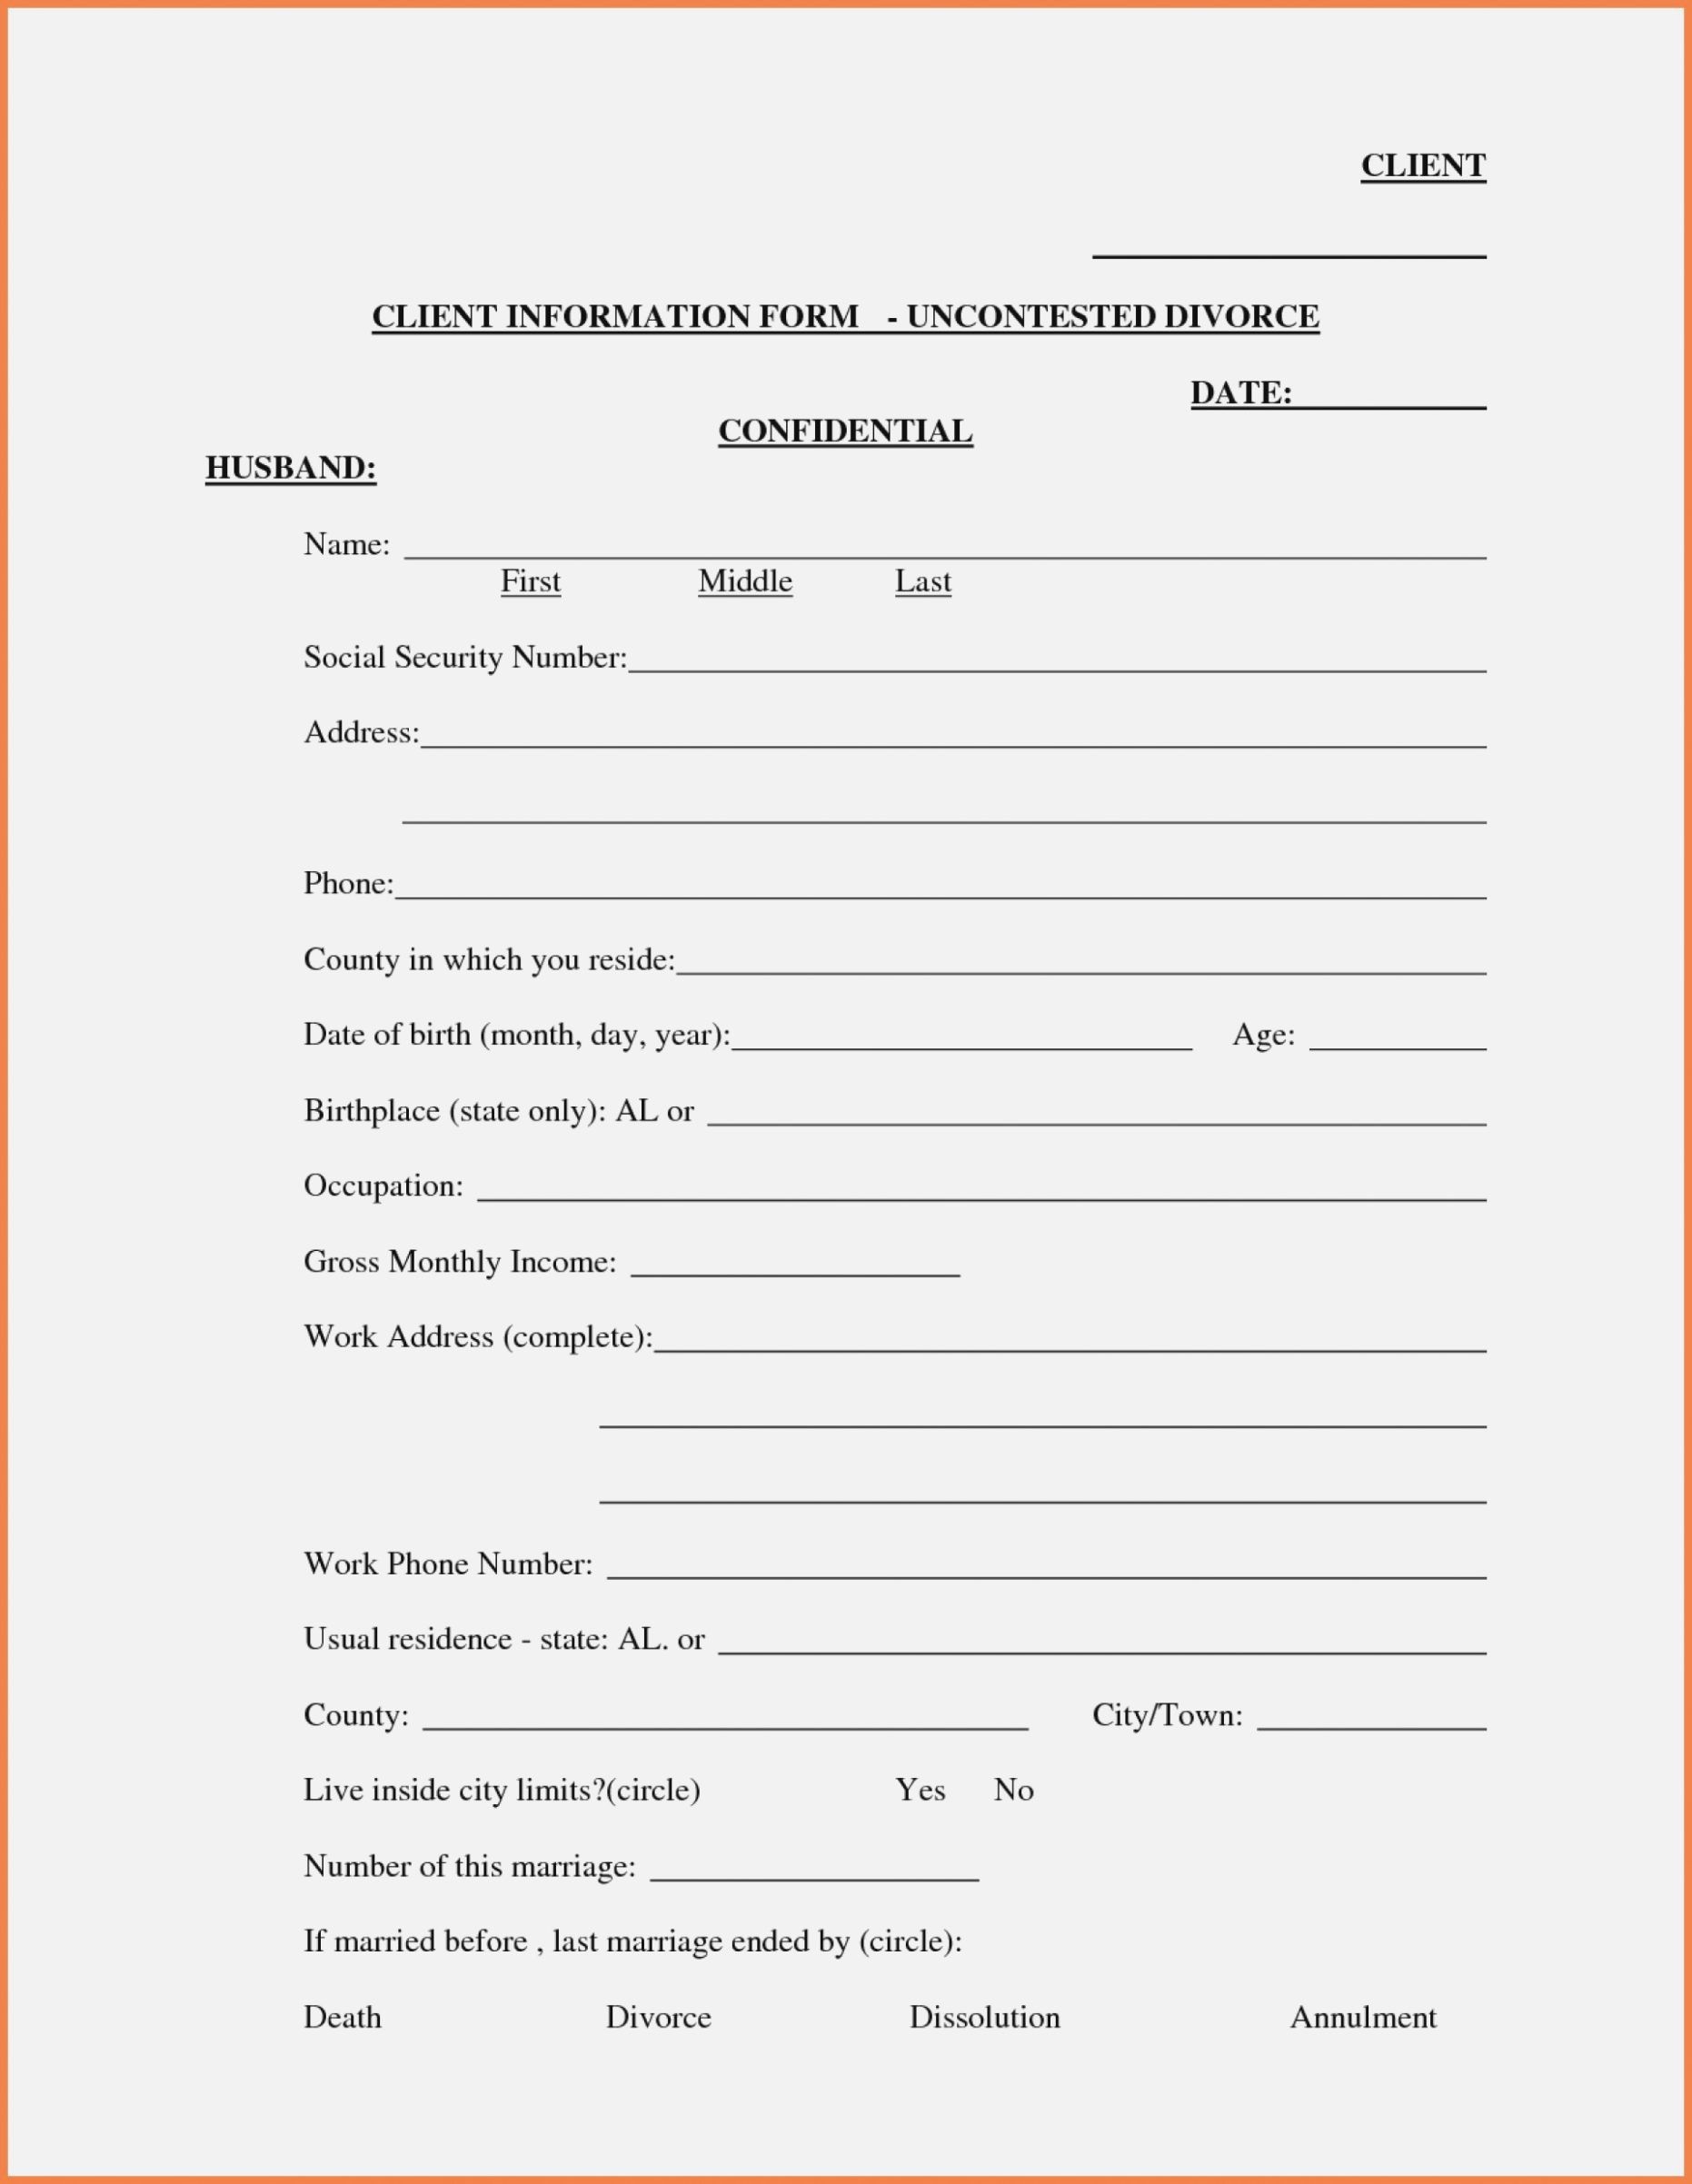textline: (397, 526, 1492, 567), (399, 789, 1492, 830), (397, 863, 1490, 904), (472, 1165, 1493, 1207), (417, 718, 1492, 757), (649, 1317, 1492, 1361), (670, 934, 1490, 979), (702, 1088, 1492, 1133), (596, 1397, 1492, 1436), (626, 640, 1490, 679), (596, 1471, 1492, 1509), (596, 1546, 1492, 1583), (711, 1622, 1490, 1663), (419, 1693, 1034, 1737), (727, 1014, 1197, 1058), (1085, 218, 1492, 266), (1185, 363, 1492, 417), (644, 1849, 986, 1888), (624, 1246, 963, 1285), (1249, 1700, 1492, 1737), (1304, 1016, 1492, 1057)
